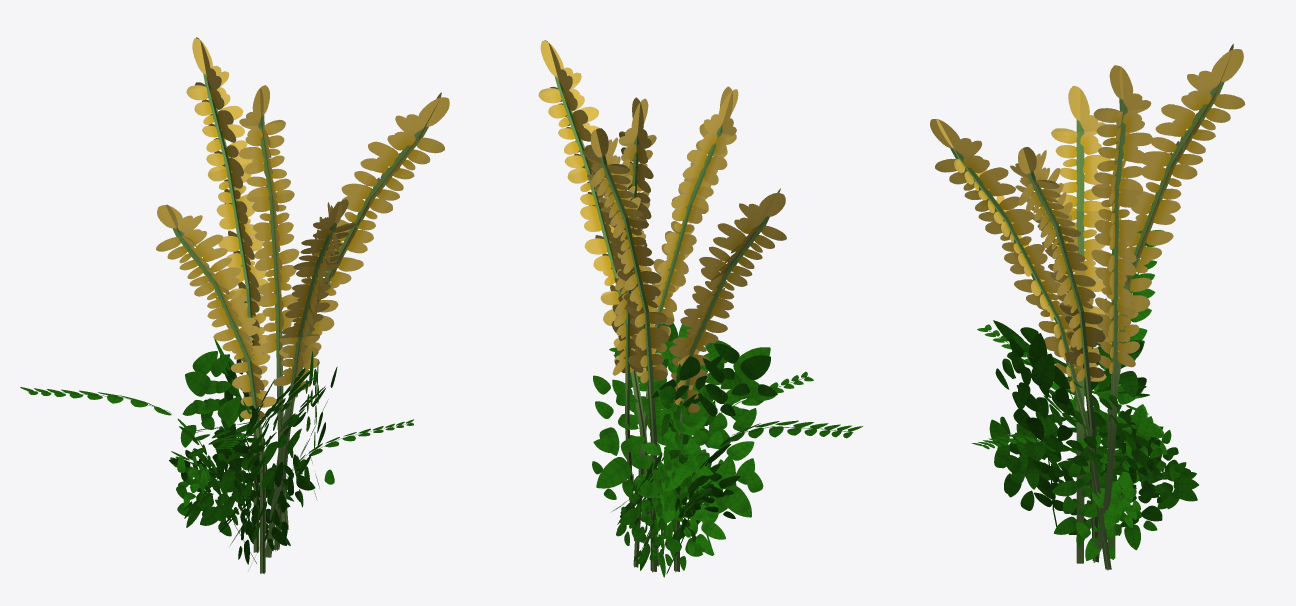
The model's file is YellowFlower.fbx.
3 renders of one model, left to right at view 1: azimuth 30°, elevation 25°; view 2: azimuth 150°, elevation 25°; view 3: azimuth 270°, elevation 25°, orthographic. The views are drawn at different scales.
Visible parts, largest first — view 1: Plane.016; view 2: Plane.016; view 3: Plane.016.
Boxes of the visible parts, x1,y1,x2,y2 form: Plane.016: (20,37,449,573); Plane.016: (538,40,862,577); Plane.016: (930,43,1245,570).
Bounding box in the file's own units: 892 × 1114 × 695.
